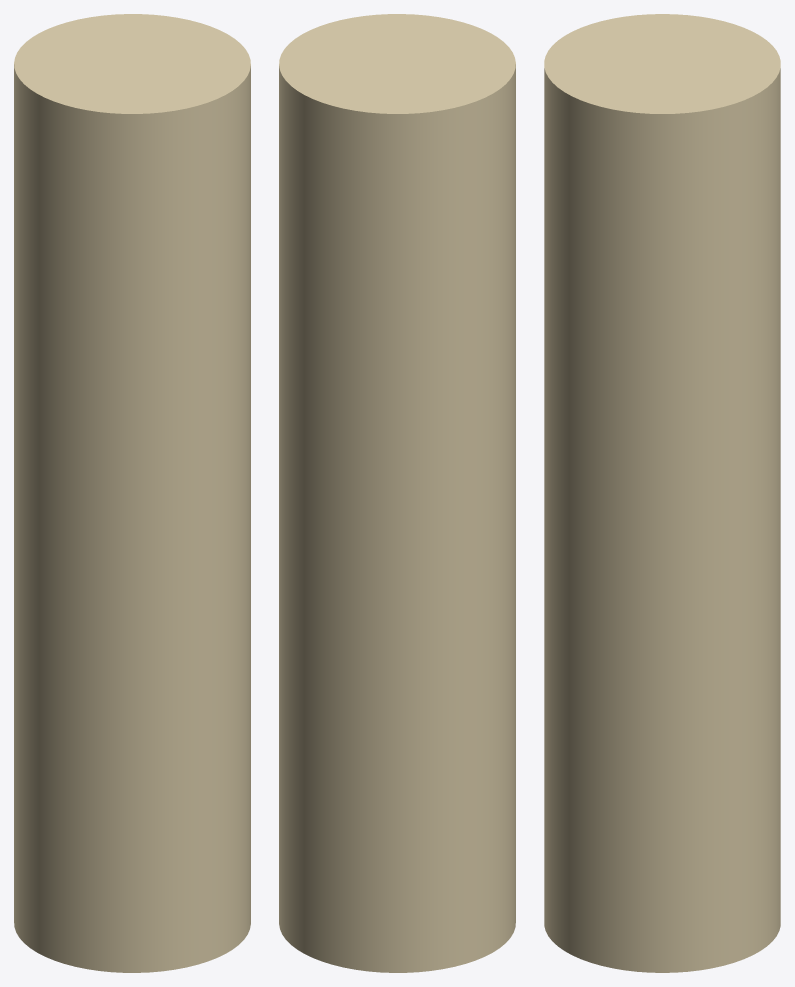
Rendered from distributor-cap-terminal.glb.
3 views of the same model, side by side, from view 1: azimuth 30°, elevation 25°; view 2: azimuth 150°, elevation 25°; view 3: azimuth 270°, elevation 25° (orthographic).
Visible parts, largest first — view 1: world; view 2: world; view 3: world.
Boxes of the visible parts, x1,y1,x2,y2 form: world: (14, 14, 250, 972); world: (279, 14, 515, 972); world: (544, 14, 780, 972).
Size of the model in its own units: 0.006 by 0.024 by 0.00599.
